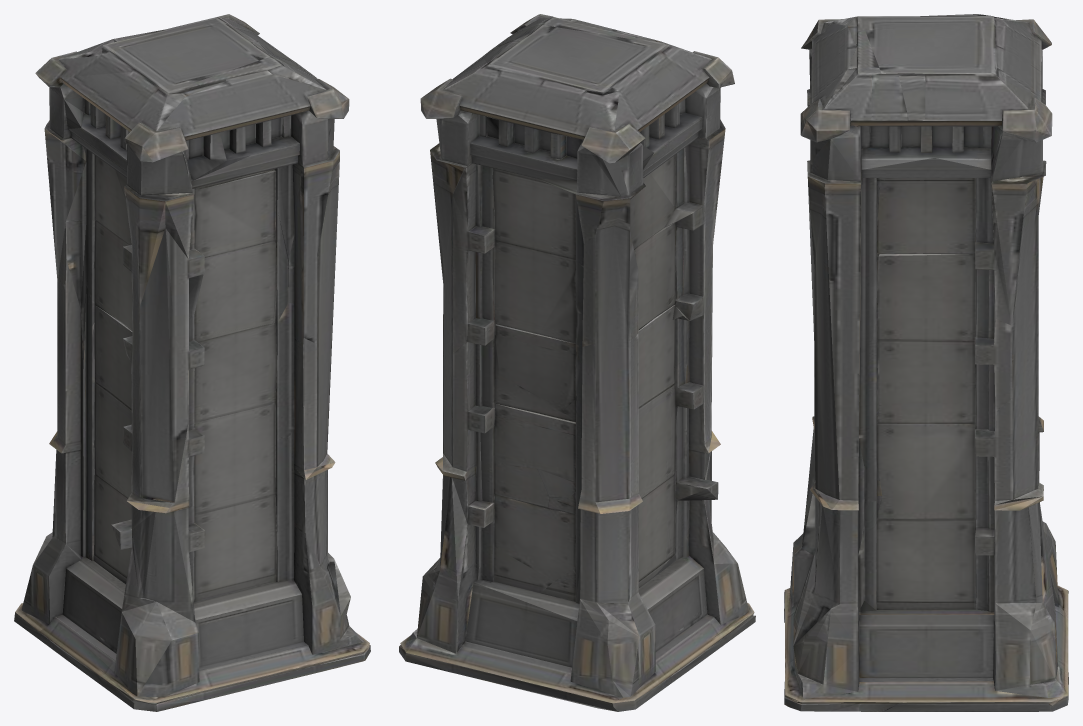
File: imperial_city_wall_corner_post_lod1.glb
3 renders of one model, left to right at view 1: azimuth 30°, elevation 25°; view 2: azimuth 150°, elevation 25°; view 3: azimuth 270°, elevation 25°, orthographic. The views are drawn at different scales.
Visible parts, largest first — view 1: mesh_node; view 2: mesh_node; view 3: mesh_node.
Boxes of the visible parts, <box> form: mesh_node: <box>14,14,370,711</box>; mesh_node: <box>399,14,755,711</box>; mesh_node: <box>784,14,1068,711</box>.
Bounding box in the file's own units: 2.59 × 6.1 × 2.59.
Materials: 1 (1 with a texture image).
